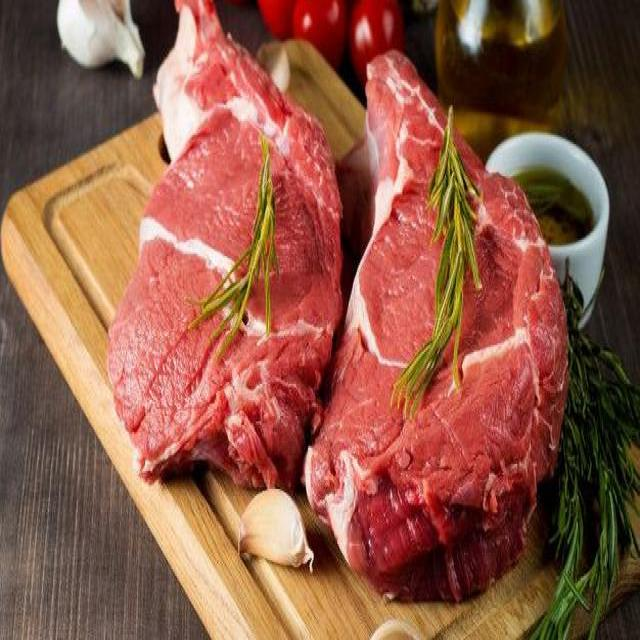beef: (292, 39, 590, 592), (100, 3, 346, 513)
